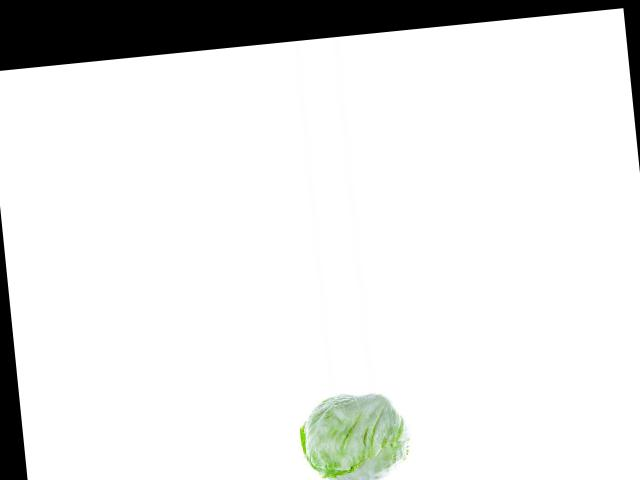lettuce: (299, 393, 412, 480)
